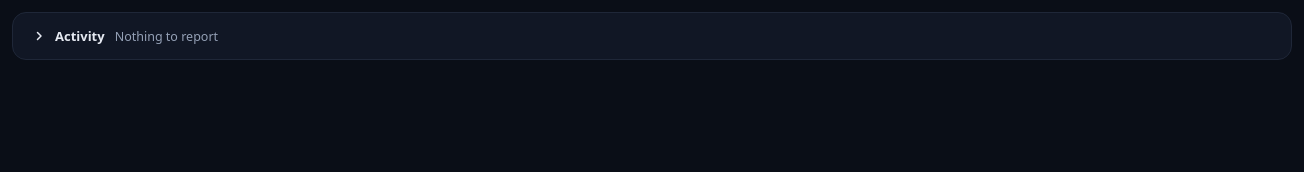
Test case: EventsFeed › says so when there is nothing to report
The image size is (1304, 172).
Step 1. Click the button "Activity Nothing to report" → (80, 36), box [13, 13, 1291, 59]
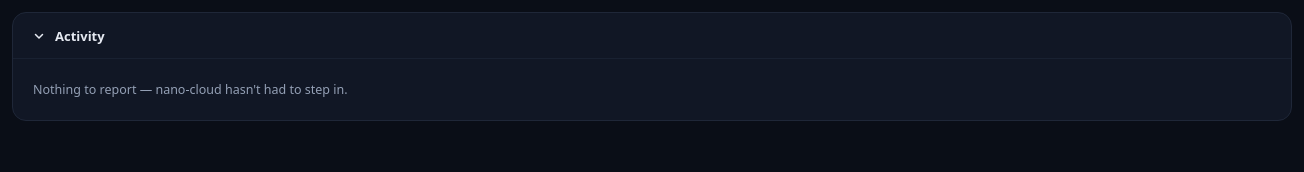
Check: the text "Nothing to report — nano-cloud hasn't had to step in." is shown, box [33, 81, 348, 98]
